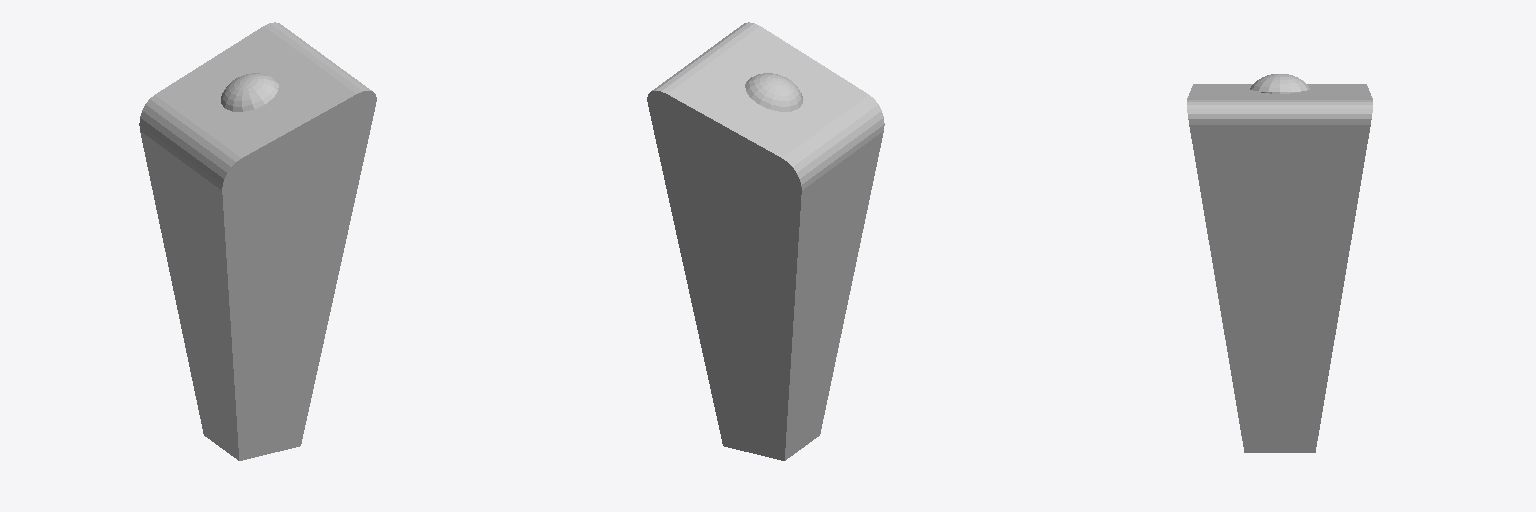
Rendered from podium.obj.
3 views of the same model, side by side, from view 1: azimuth 30°, elevation 25°; view 2: azimuth 150°, elevation 25°; view 3: azimuth 270°, elevation 25° (orthographic).
Visible parts, largest first — view 1: base, stripes, button; view 2: base, stripes, button; view 3: base, panels, stripes, button.
Part boxes in pixels (left/top/right/bottom): base: left=139, top=22, right=376, bottom=460; stripes: left=144, top=26, right=366, bottom=459; button: left=221, top=73, right=278, bottom=111; base: left=647, top=22, right=884, bottom=460; stripes: left=657, top=26, right=879, bottom=459; button: left=745, top=73, right=802, bottom=111; base: left=1187, top=84, right=1372, bottom=452; panels: left=1212, top=125, right=1347, bottom=242; stripes: left=1196, top=84, right=1363, bottom=452; button: left=1250, top=74, right=1309, bottom=93.
Bounding box in the file's own units: 1.05 × 2.46 × 1.13.